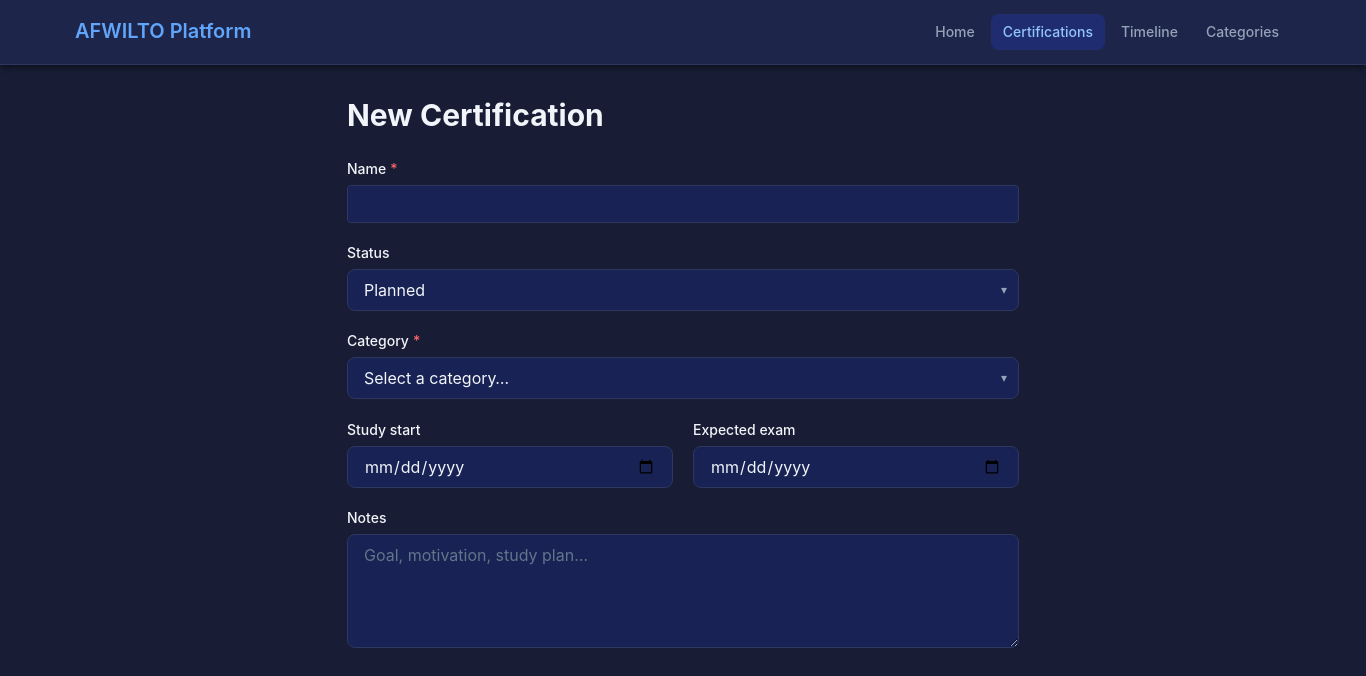
Test case: CertificationFormPage (create) › AC-6: Achieved date field hidden by default; visible when status = achieved
This screenshot has width=1366, height=676.
Expected: the field labelled "Name*" is shown, top-left (347, 184), bottom-right (1019, 222)
Expected: the field labelled "achieved date" is not shown
Select "Achieved" in the dropdown labelled "Status" at coordinates (683, 290), box top-left (347, 268), bottom-right (1019, 310)
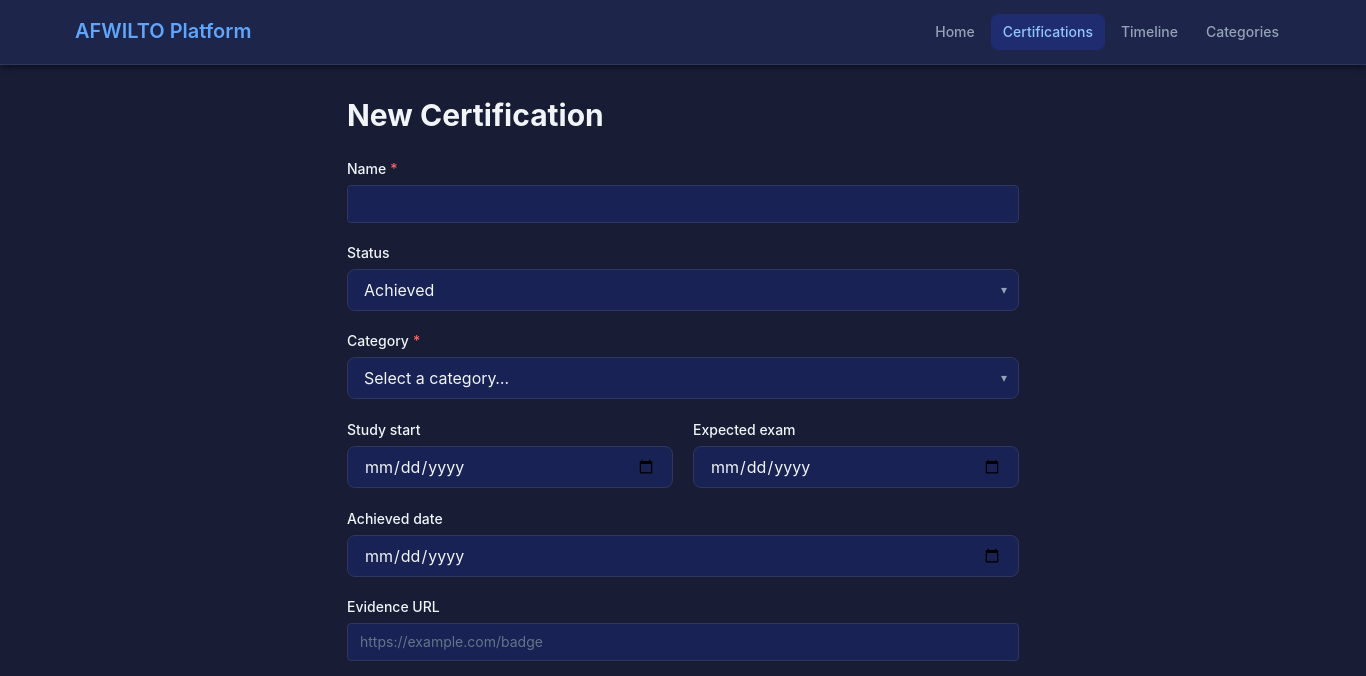
Expected: the date field labelled "Achieved date" is shown, top-left (347, 534), bottom-right (1019, 576)
